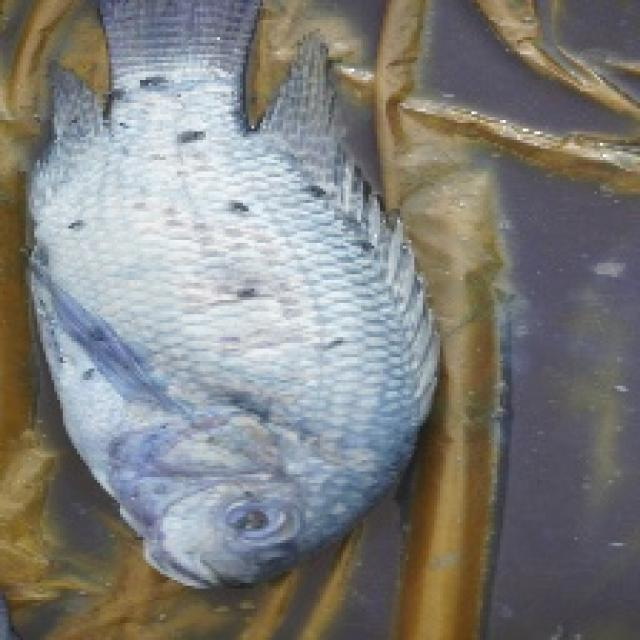Non-Fresh: (39, 38, 446, 593)
